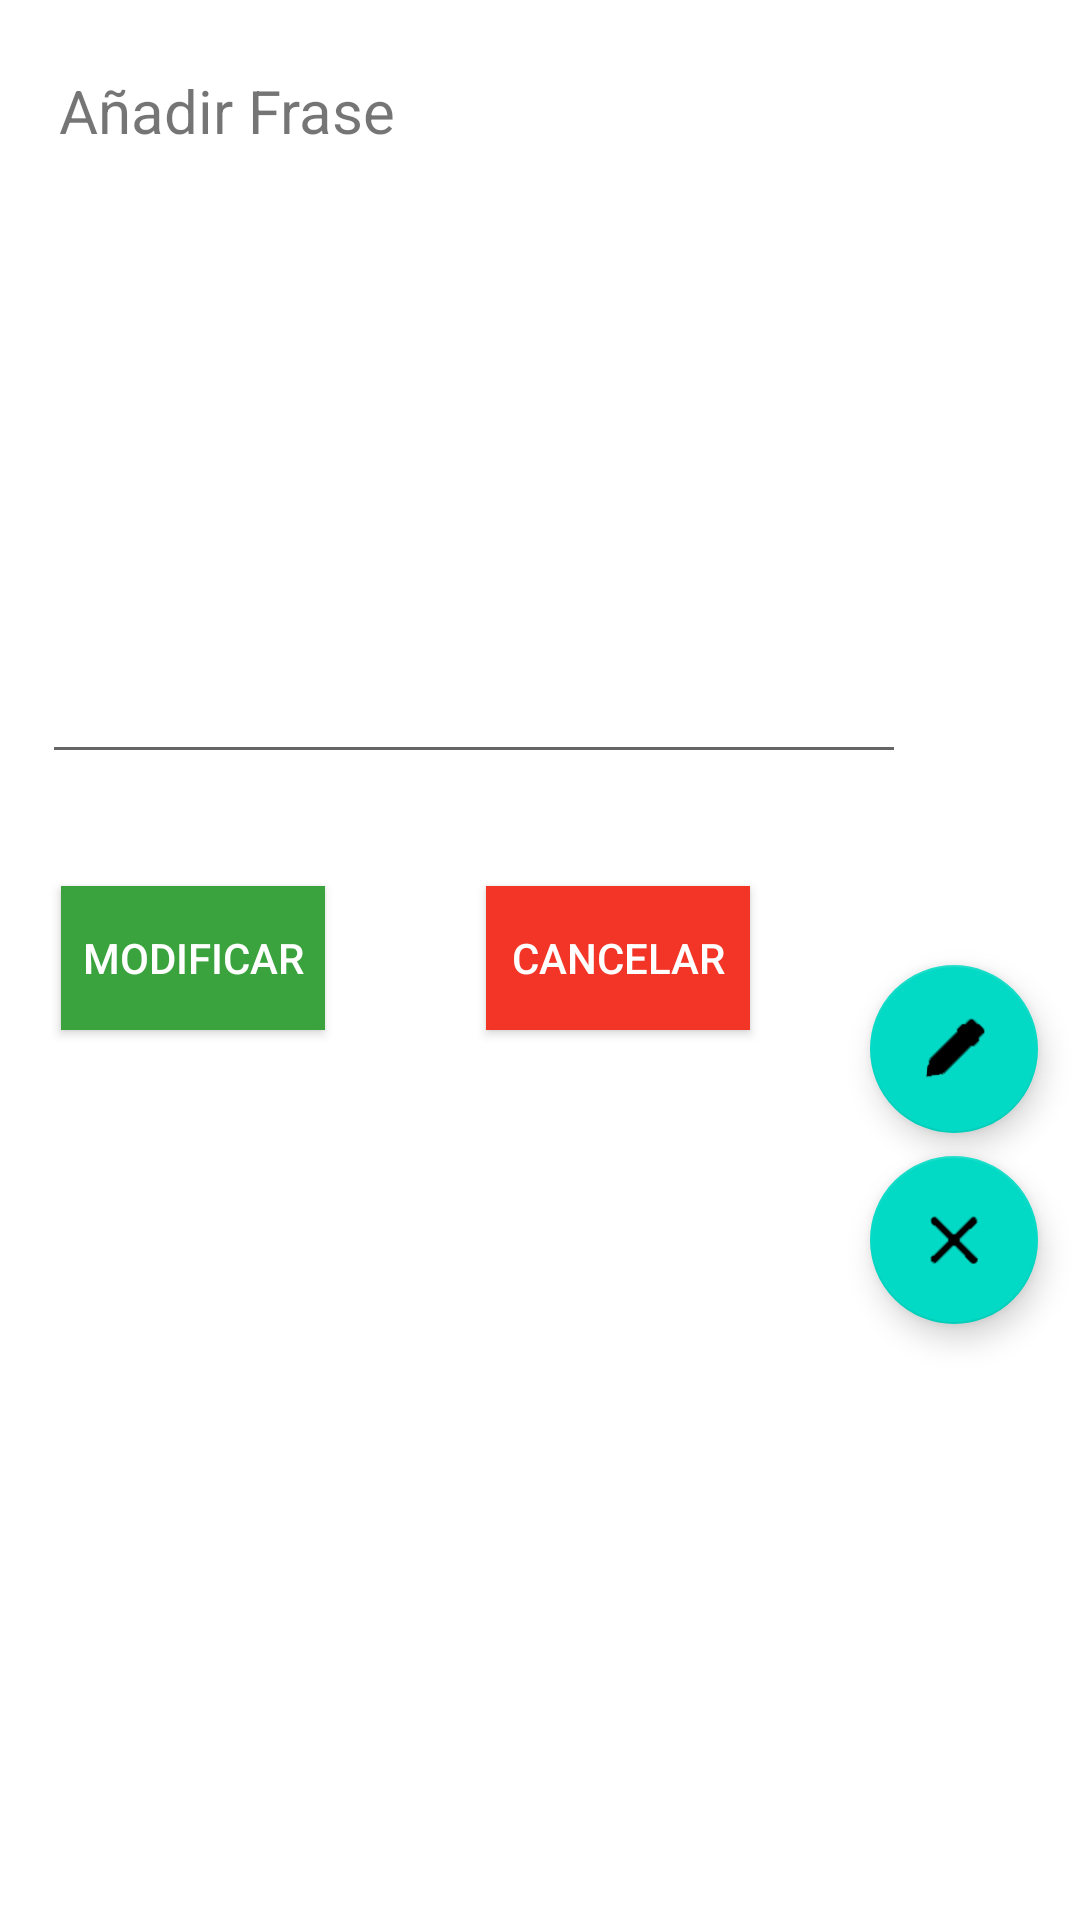

Screen size 1080px×1920px. Icon name, then its center in pixels as (x=x, y=y):
delete: (x=954, y=1240)
edit: (x=954, y=1049)
